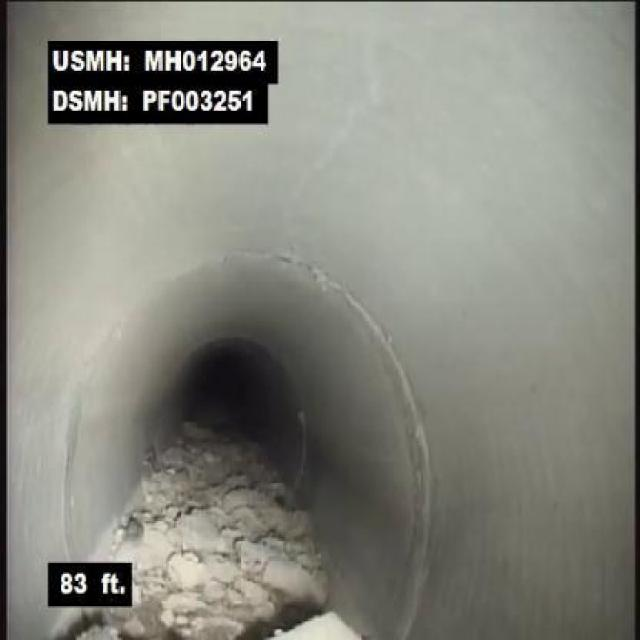Obstacle: (214, 426, 371, 639), (74, 422, 204, 638)
